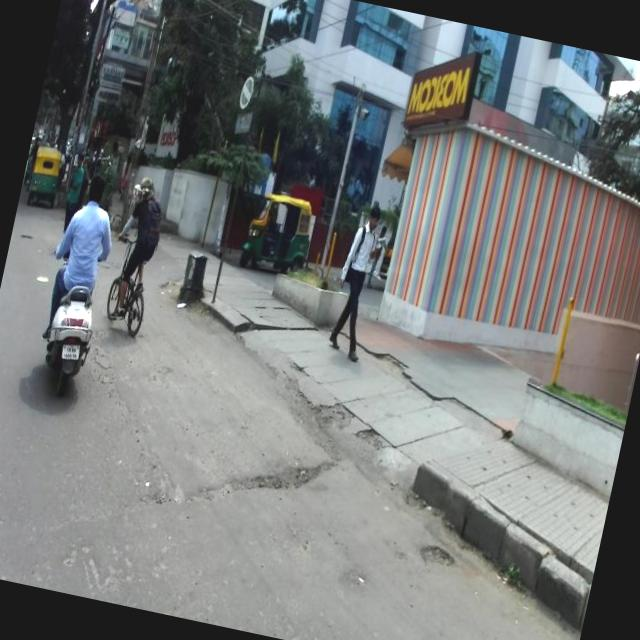pothole: (202, 423, 342, 538), (404, 526, 471, 585), (348, 566, 372, 588)
